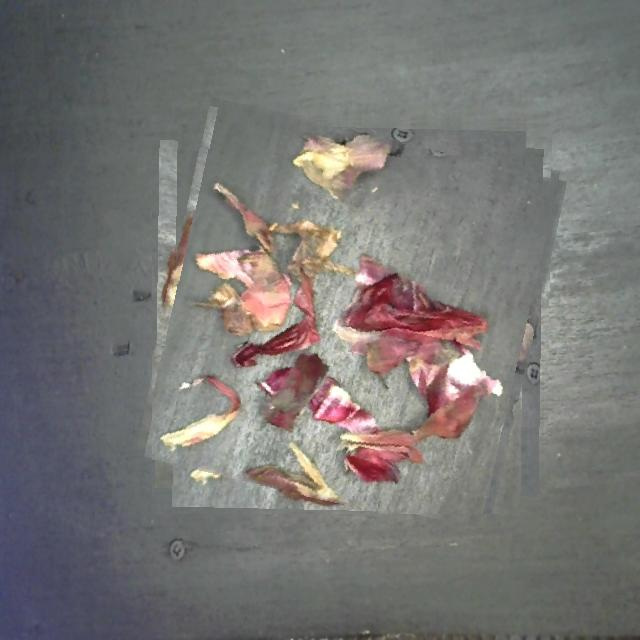biodegradable: (152, 114, 552, 514)
